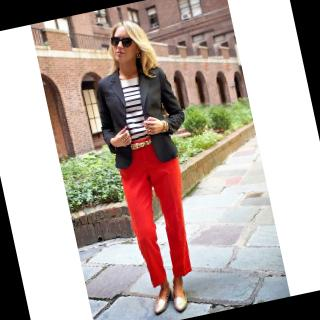loafers: (145, 275, 199, 320)
